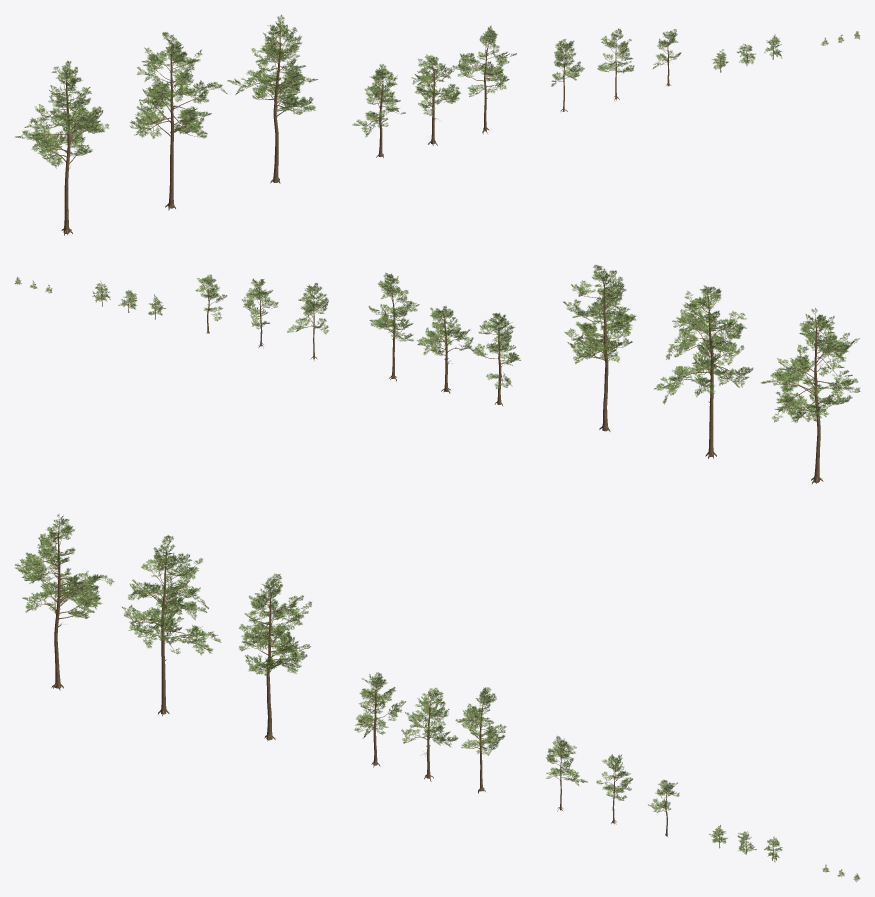
3 renders of one model, top to bottom at view 1: azimuth 30°, elevation 25°; view 2: azimuth 150°, elevation 25°; view 3: azimuth 330°, elevation 25°, orthographic.
Parts seen in each view (by area): view 1: Pine_large_2_LOD0, Pine_large_1_LOD0, Pine_large_3_LOD0, Pine_big_3_LOD0, Pine_big_2_LOD0, Pine_big_1_LOD0, Pine_medium_2_LOD0, Pine_medium_1_LOD0, Pine_medium_3_LOD0; view 2: Pine_large_2_LOD0, Pine_large_1_LOD0, Pine_large_3_LOD0, Pine_big_3_LOD0, Pine_big_1_LOD0, Pine_big_2_LOD0, Pine_medium_1_LOD0, Pine_medium_2_LOD0, Pine_medium_3_LOD0; view 3: Pine_large_2_LOD0, Pine_large_1_LOD0, Pine_large_3_LOD0, Pine_big_2_LOD0, Pine_big_3_LOD0, Pine_big_1_LOD0, Pine_medium_1_LOD0, Pine_medium_2_LOD0.
Boxes of the visible parts, x1,y1,x2,y2 form: Pine_large_2_LOD0: [129, 32, 227, 210]; Pine_large_1_LOD0: [15, 60, 108, 235]; Pine_large_3_LOD0: [227, 14, 317, 183]; Pine_big_3_LOD0: [457, 25, 516, 134]; Pine_big_2_LOD0: [411, 54, 460, 145]; Pine_big_1_LOD0: [352, 64, 405, 157]; Pine_medium_2_LOD0: [597, 28, 634, 100]; Pine_medium_1_LOD0: [551, 39, 584, 111]; Pine_medium_3_LOD0: [653, 29, 681, 86]; Pine_large_2_LOD0: [654, 285, 753, 458]; Pine_large_1_LOD0: [760, 308, 860, 483]; Pine_large_3_LOD0: [563, 265, 636, 431]; Pine_big_3_LOD0: [368, 273, 419, 381]; Pine_big_1_LOD0: [469, 313, 520, 406]; Pine_big_2_LOD0: [417, 306, 473, 393]; Pine_medium_1_LOD0: [287, 283, 329, 360]; Pine_medium_2_LOD0: [241, 278, 278, 348]; Pine_medium_3_LOD0: [195, 274, 227, 333]; Pine_large_2_LOD0: [122, 535, 221, 716]; Pine_large_1_LOD0: [15, 513, 114, 690]; Pine_large_3_LOD0: [238, 573, 311, 741]; Pine_big_2_LOD0: [401, 687, 458, 781]; Pine_big_3_LOD0: [455, 687, 506, 793]; Pine_big_1_LOD0: [354, 672, 405, 767]; Pine_medium_1_LOD0: [546, 736, 587, 811]; Pine_medium_2_LOD0: [596, 754, 632, 824].
Size of what is drawn, in the model's own units: 161 by 32.09 by 17.14.
Materials: 2 (2 with a texture image).
